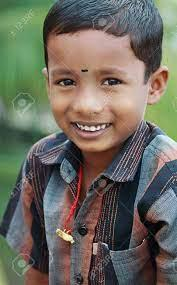Human: (12, 0, 177, 285)
